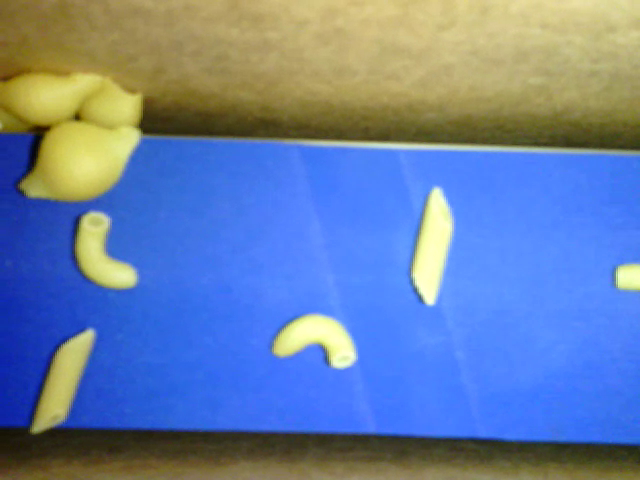elbow: (266, 310, 356, 371), (68, 210, 135, 288)
penne: (32, 328, 93, 432), (407, 180, 453, 308)
shell: (17, 121, 139, 202), (1, 68, 104, 123), (71, 75, 144, 133)
